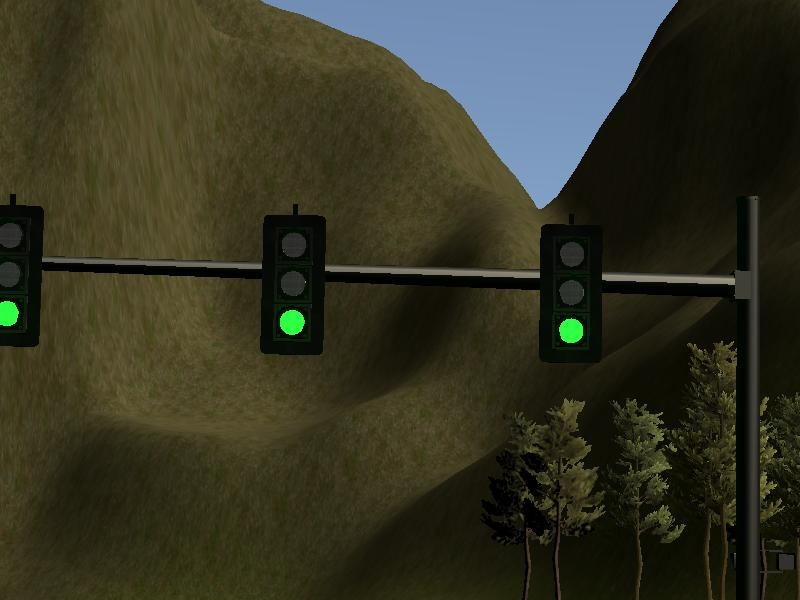GREEN: (260, 216, 326, 356), (541, 224, 603, 363), (1, 206, 43, 349)
